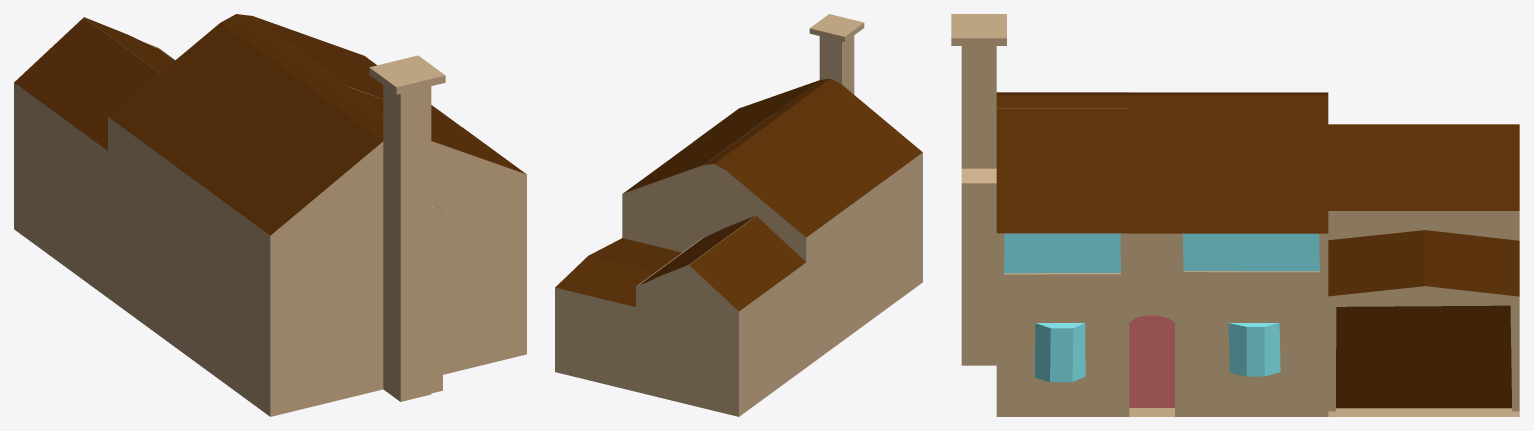
File: SimpHouse.fbx
3 renders of one model, left to right at view 1: azimuth 30°, elevation 25°; view 2: azimuth 150°, elevation 25°; view 3: azimuth 270°, elevation 25°, orthographic. The views are drawn at different scales.
Parts seen in each view (by area): view 1: Cube; view 2: Cube; view 3: Cube.
Boxes of the visible parts, left/top/right/bottom form: Cube: left=14, top=14, right=526, bottom=416; Cube: left=555, top=14, right=922, bottom=416; Cube: left=951, top=14, right=1519, bottom=416.
Size of the model in its own units: 805 by 923 by 1454.
